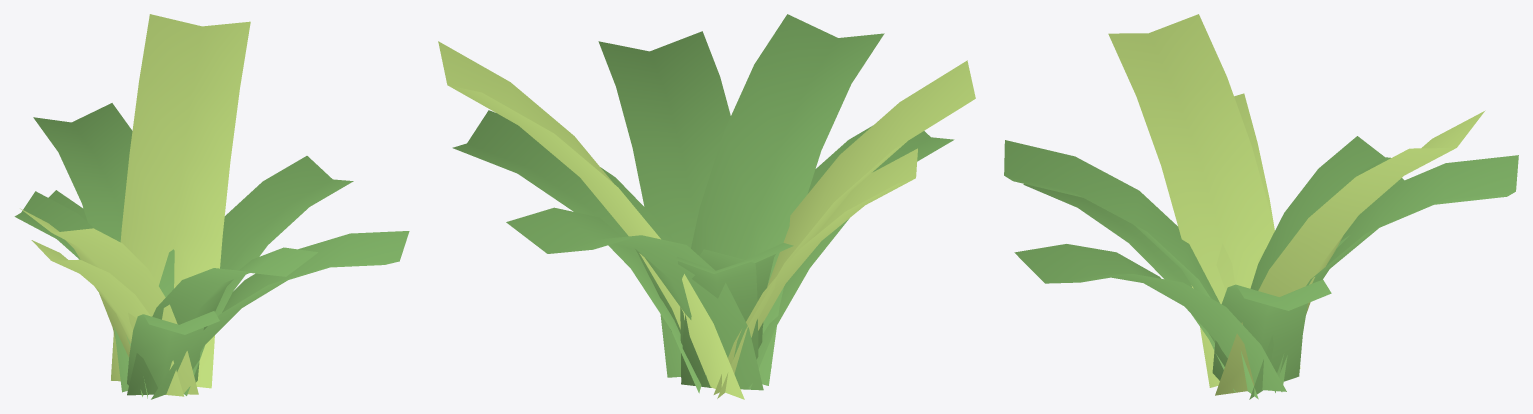
The model's file is plant_tuft_1.glb.
3 views of the same model, side by side, from view 1: azimuth 30°, elevation 25°; view 2: azimuth 150°, elevation 25°; view 3: azimuth 270°, elevation 25° (orthographic). The views are drawn at different scales.
Visible parts, largest first — view 1: plant_tuft_1; view 2: plant_tuft_1; view 3: plant_tuft_1.
Part boxes in pixels (box(x1,y1,x2,y2)): plant_tuft_1: box(14, 14, 409, 399); plant_tuft_1: box(438, 14, 975, 399); plant_tuft_1: box(1004, 14, 1518, 399).
Size of the model in its own units: 1.42 by 1.08 by 1.56.
